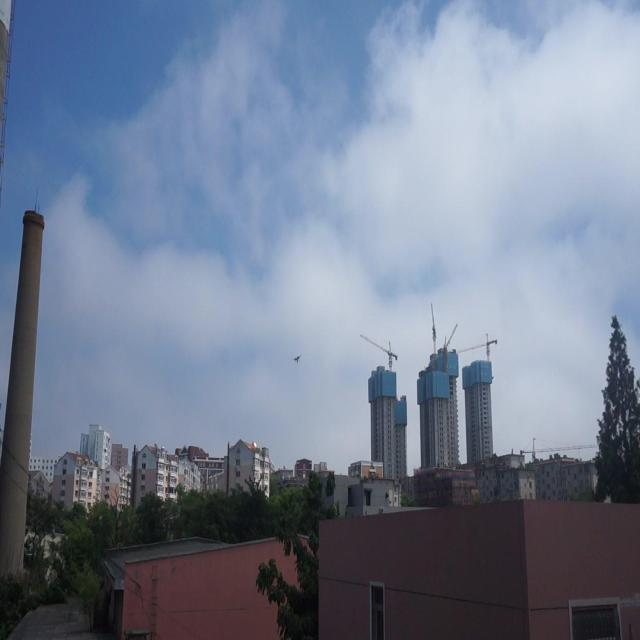drone: (292, 352, 303, 366)
